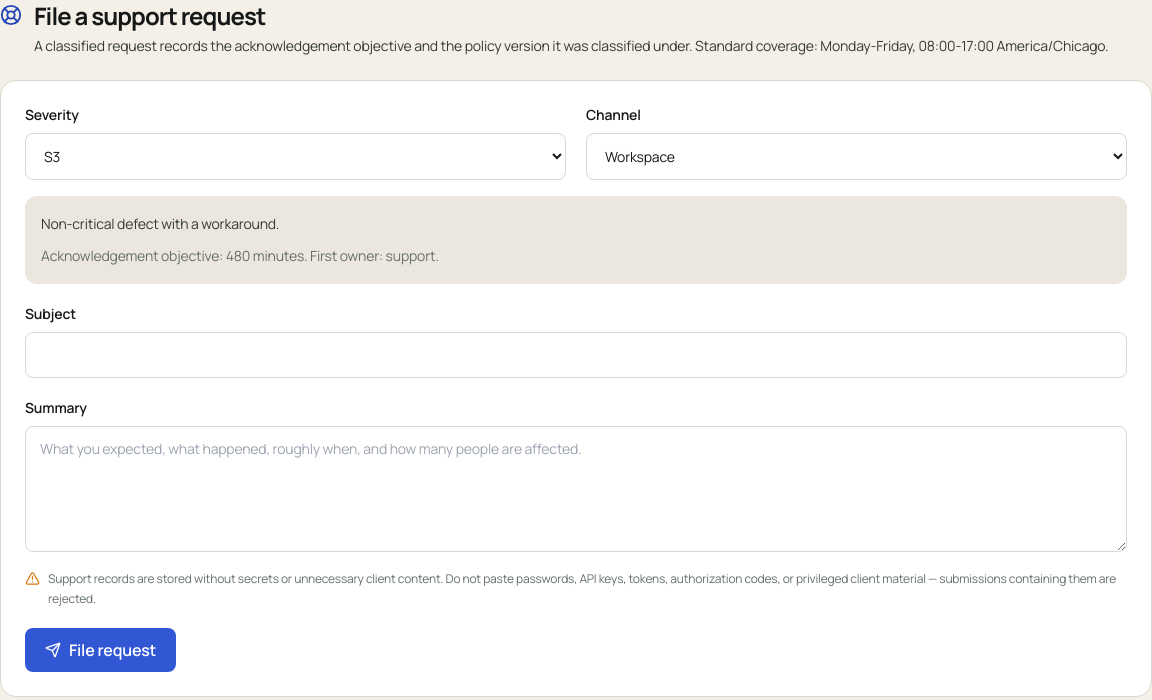
admin SupportTab › files a classified request and reports the acknowledgement clock
Expected: the text "Non-critical defect with a workaround." is shown, top-left (41, 214), bottom-right (279, 233)
Type "Document upload fails" into the field labelled "Subject".
click(576, 355); type("Document upload fails")  # box top-left (25, 332), bottom-right (1127, 378)
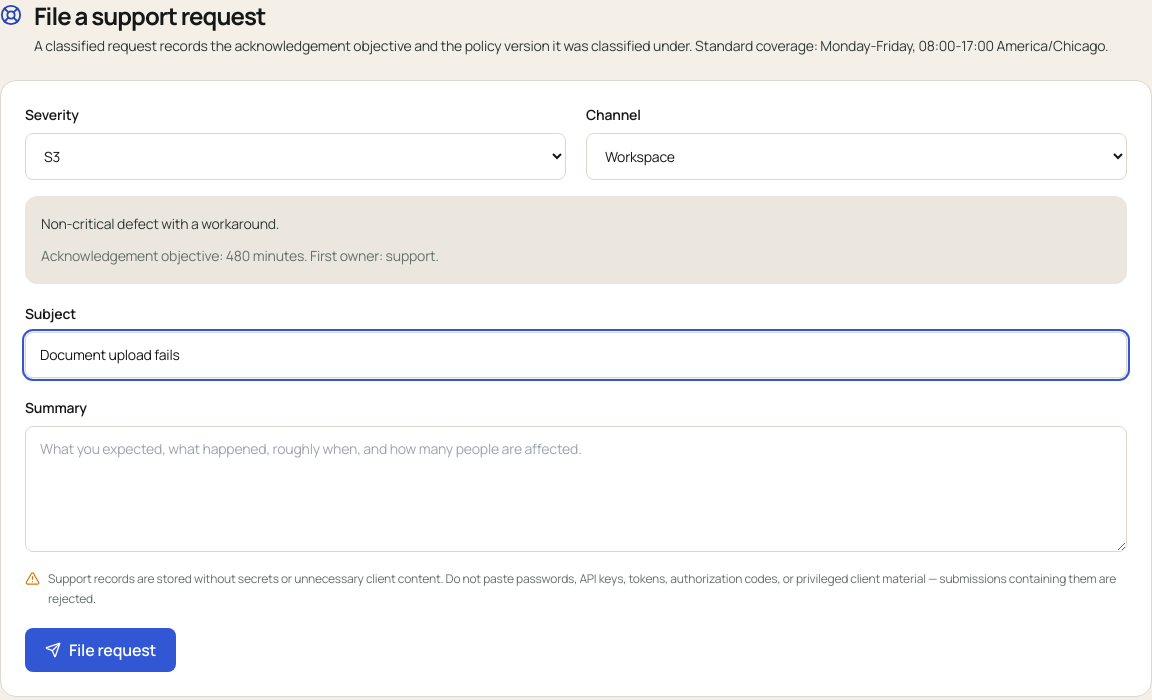
Type "Uploads return an error for three users since this morning." into the text box labelled "Summary".
click(576, 489); type("Uploads return an error for three users since this morning.")  # box top-left (25, 426), bottom-right (1127, 552)
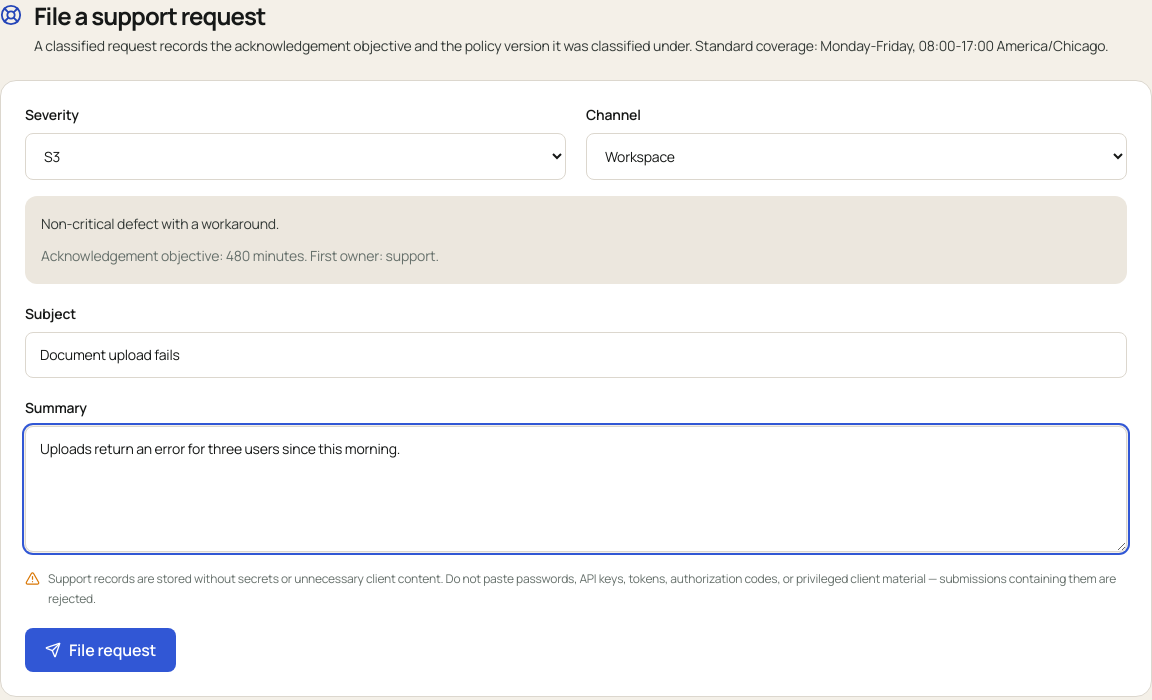
Click the button "File request".
click(101, 650)  # box top-left (25, 628), bottom-right (176, 672)
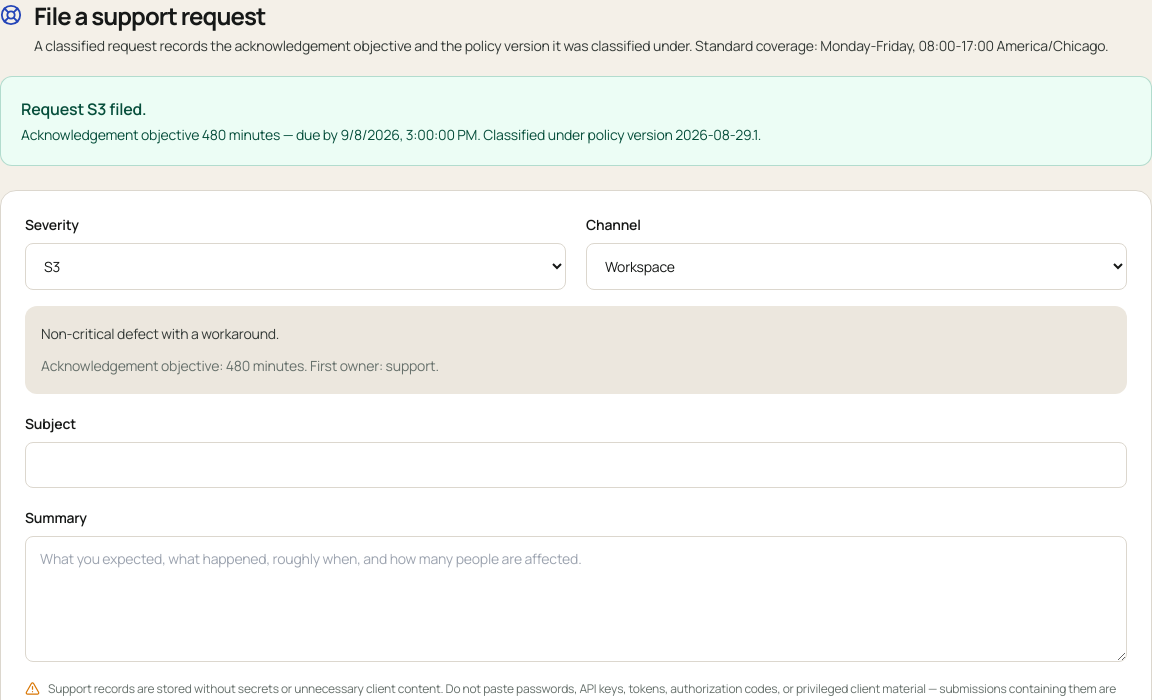
Expected: the text "Request S3 filed." is shown, top-left (21, 98), bottom-right (146, 120)
Expected: the text "policy version 2026-08-29.1" is shown, top-left (21, 125), bottom-right (761, 144)
